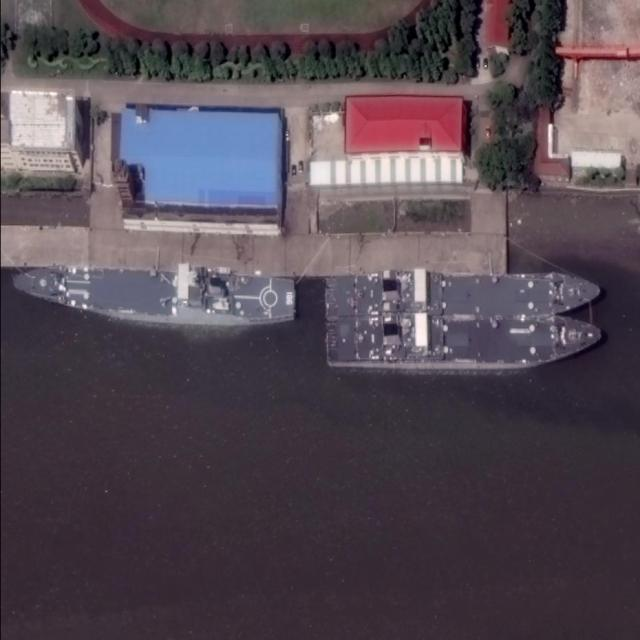Landing: (10, 264, 295, 319), (325, 314, 599, 369), (326, 268, 602, 318), (326, 315, 601, 363), (320, 273, 601, 312)
